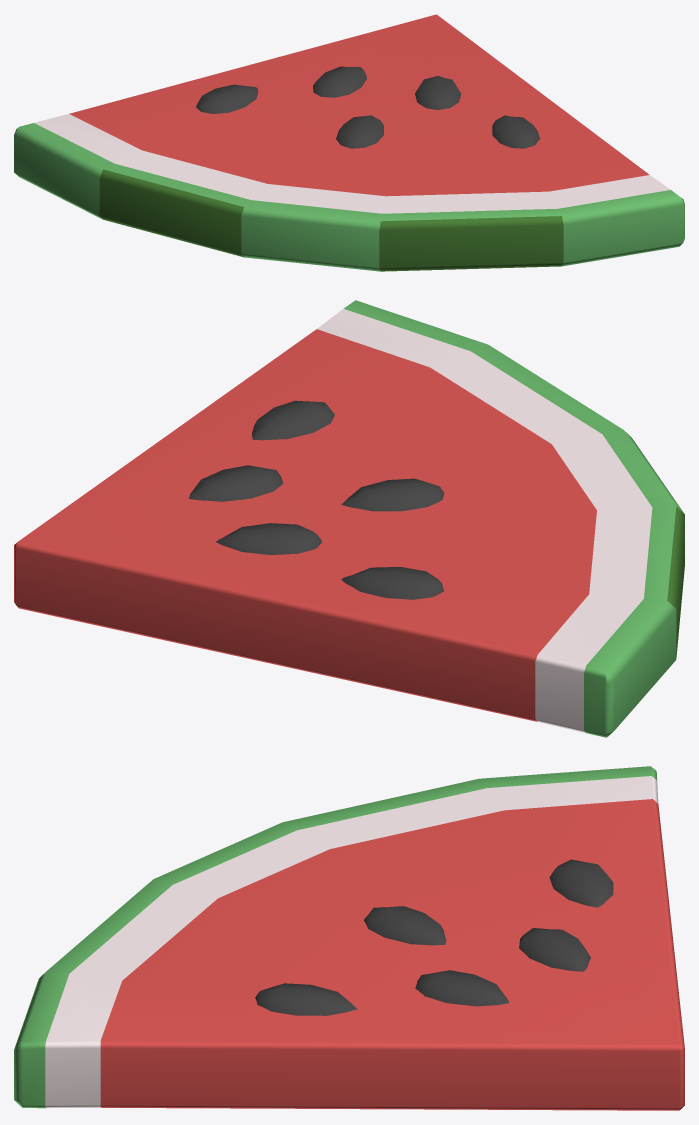
Rendered from Watermelon_Slice_2.fbx.
3 renders of one model, top to bottom at view 1: azimuth 30°, elevation 25°; view 2: azimuth 150°, elevation 25°; view 3: azimuth 270°, elevation 25°, orthographic. The views are drawn at different scales.
Visible parts, largest first — view 1: Watermelon_Slice_2; view 2: Watermelon_Slice_2; view 3: Watermelon_Slice_2.
Part boxes in pixels (box(x1,y1,x2,y2)): Watermelon_Slice_2: box(14, 14, 684, 271); Watermelon_Slice_2: box(14, 300, 684, 737); Watermelon_Slice_2: box(14, 766, 684, 1110).
Bounding box in the file's own units: 15.13 × 2.26 × 15.12.
